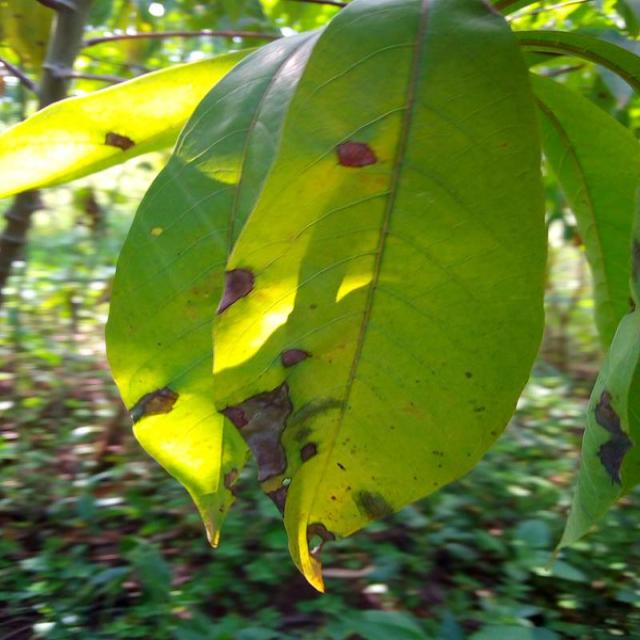cassava leaf: (103, 0, 549, 593)
